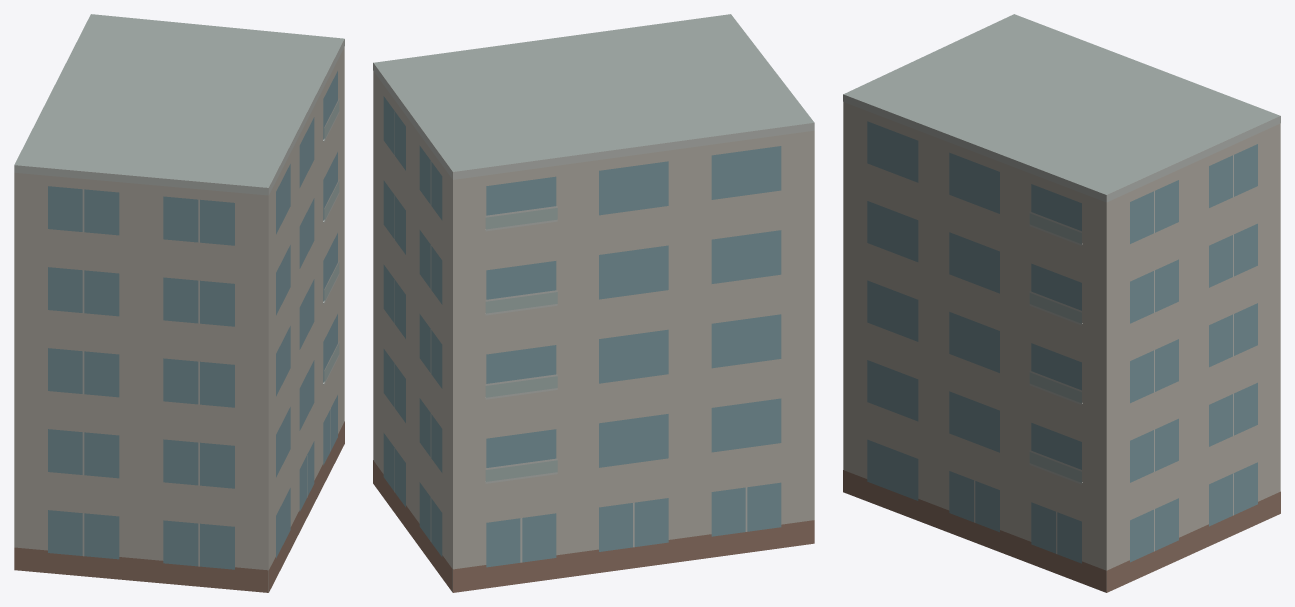
The model's file is survey-upis-32892781.glb.
3 renders of one model, left to right at view 1: azimuth 30°, elevation 25°; view 2: azimuth 150°, elevation 25°; view 3: azimuth 270°, elevation 25°, orthographic. The views are drawn at different scales.
Visible parts, largest first — view 1: survey-upis-32892781.tmp; view 2: survey-upis-32892781.tmp; view 3: survey-upis-32892781.tmp.
Part boxes in pixels (x1,y1,x2,y2): survey-upis-32892781.tmp: [14, 14, 344, 592]; survey-upis-32892781.tmp: [373, 14, 814, 592]; survey-upis-32892781.tmp: [843, 14, 1280, 592].
Size of the model in its own units: 12.7 by 13 by 12.97.
